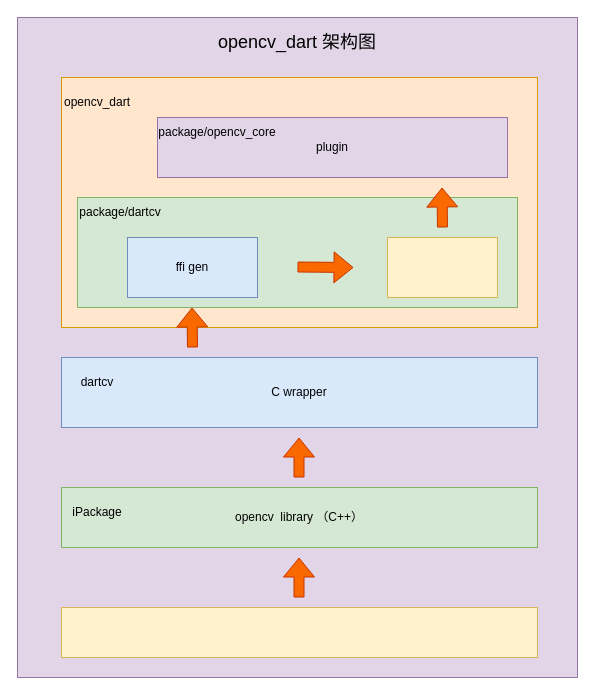
Some shapes in this 595 by 695 pixel diagram are drawn without their labels. Here are the shapes that lost their labels. From the top down, the centre of each, then its label:
At pixel 442 267: "dart header".
At pixel 299 632: "opencv source (4.10.0)".
